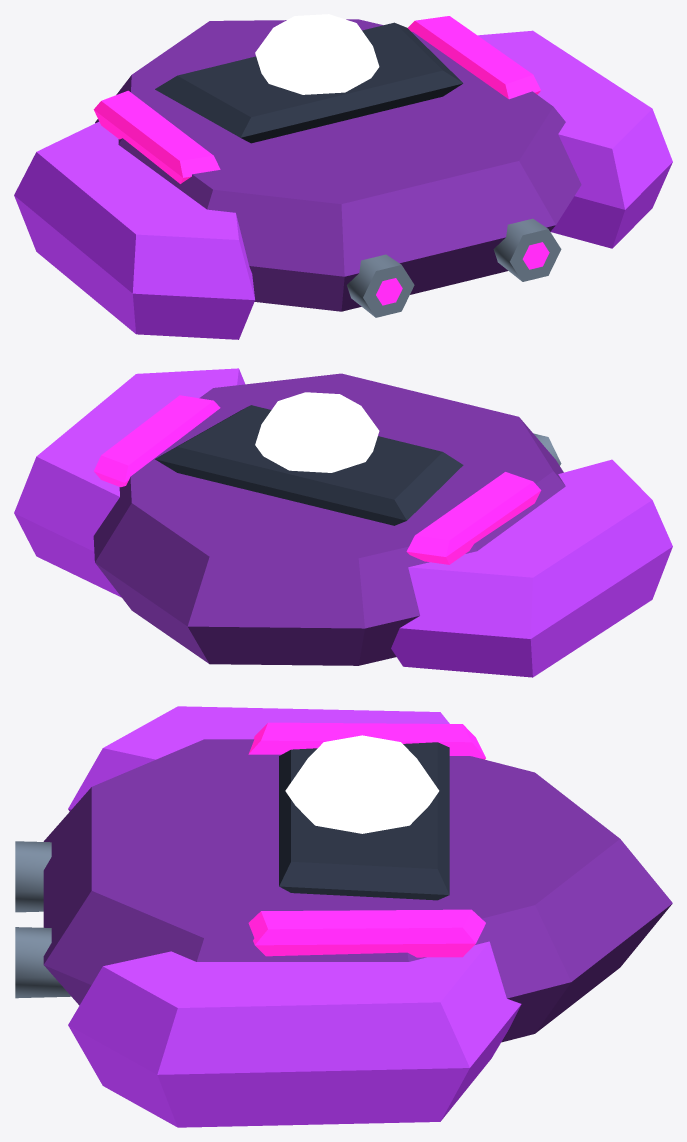
Rendered from tank_enemy_mockup.glb.
3 views of the same model, one above another, from view 1: azimuth 30°, elevation 25°; view 2: azimuth 150°, elevation 25°; view 3: azimuth 270°, elevation 25° (orthographic). The views are drawn at different scales.
Parts seen in each view (by area): view 1: TANK // BULWARK Mk II; view 2: TANK // BULWARK Mk II; view 3: TANK // BULWARK Mk II.
Boxes of the visible parts, x1,y1,x2,y2 form: TANK // BULWARK Mk II: (14, 14, 672, 339); TANK // BULWARK Mk II: (14, 368, 672, 677); TANK // BULWARK Mk II: (15, 706, 672, 1127).
Size of the model in its own units: 3.68 by 1.26 by 3.25.
